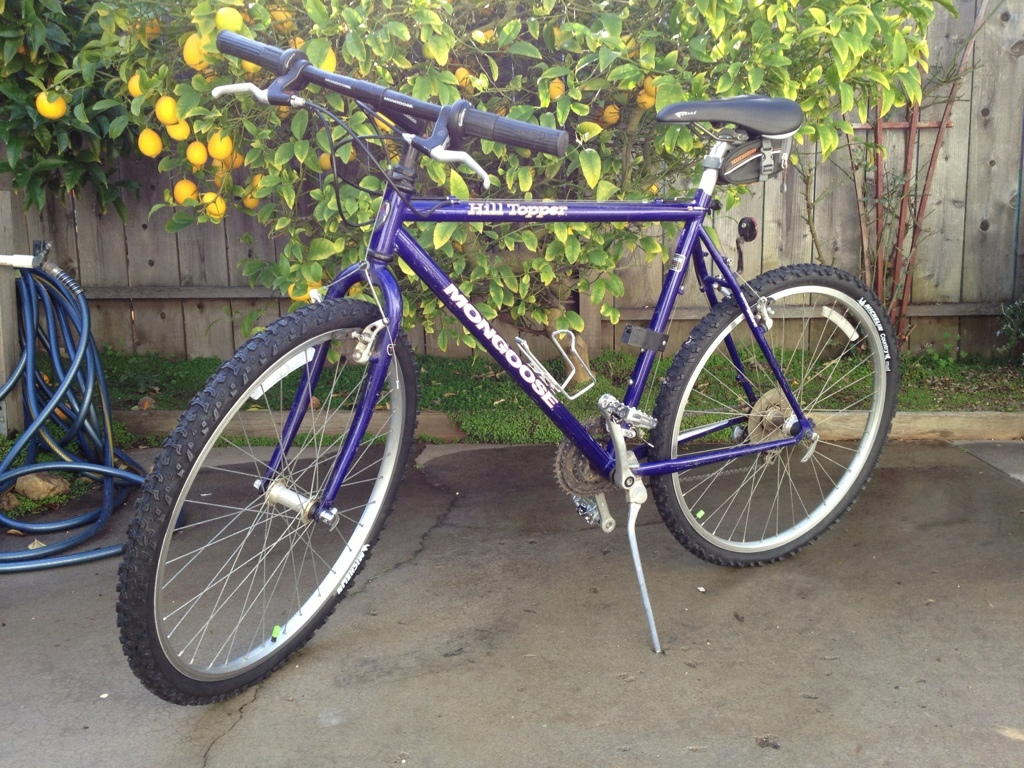bicycle: (87, 24, 903, 695)
